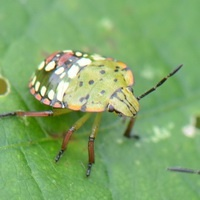insect: (0, 50, 182, 175)
